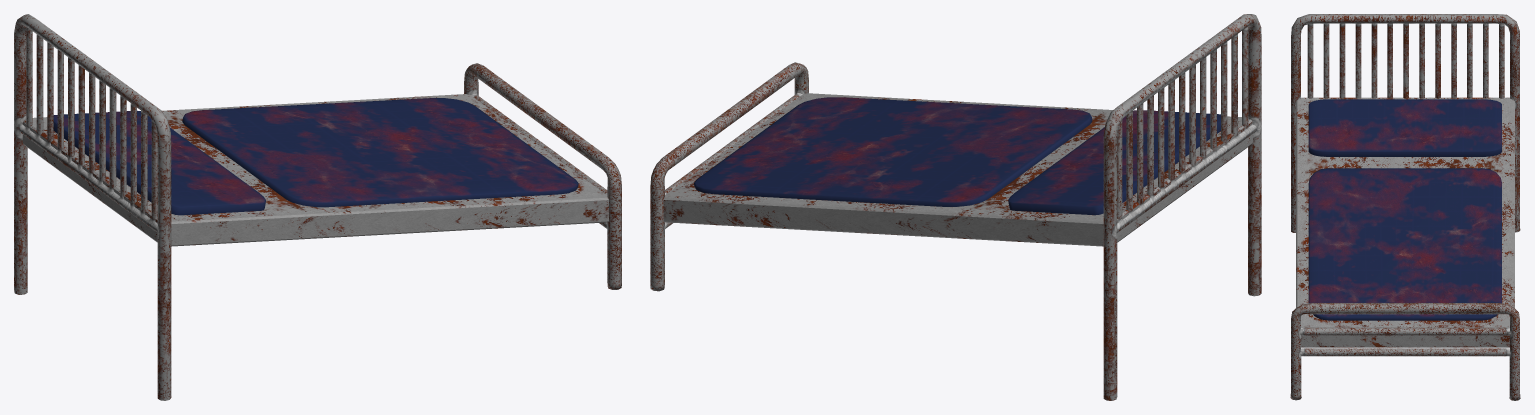
File: monsterBed.glb
The picture shows the model from 3 angles, left to right: view 1: azimuth 30°, elevation 25°; view 2: azimuth 150°, elevation 25°; view 3: azimuth 270°, elevation 25°; orthographic projection. The views are drawn at different scales.
Visible parts, largest first — view 1: bed; view 2: bed; view 3: bed.
Part boxes in pixels (bbox=[...]): bed: bbox=[14, 14, 621, 400]; bed: bbox=[650, 14, 1261, 400]; bed: bbox=[1290, 14, 1520, 400].
Size of the model in its own units: 2.07 by 1.21 by 1.17.
Materials: 3 (3 with a texture image).
